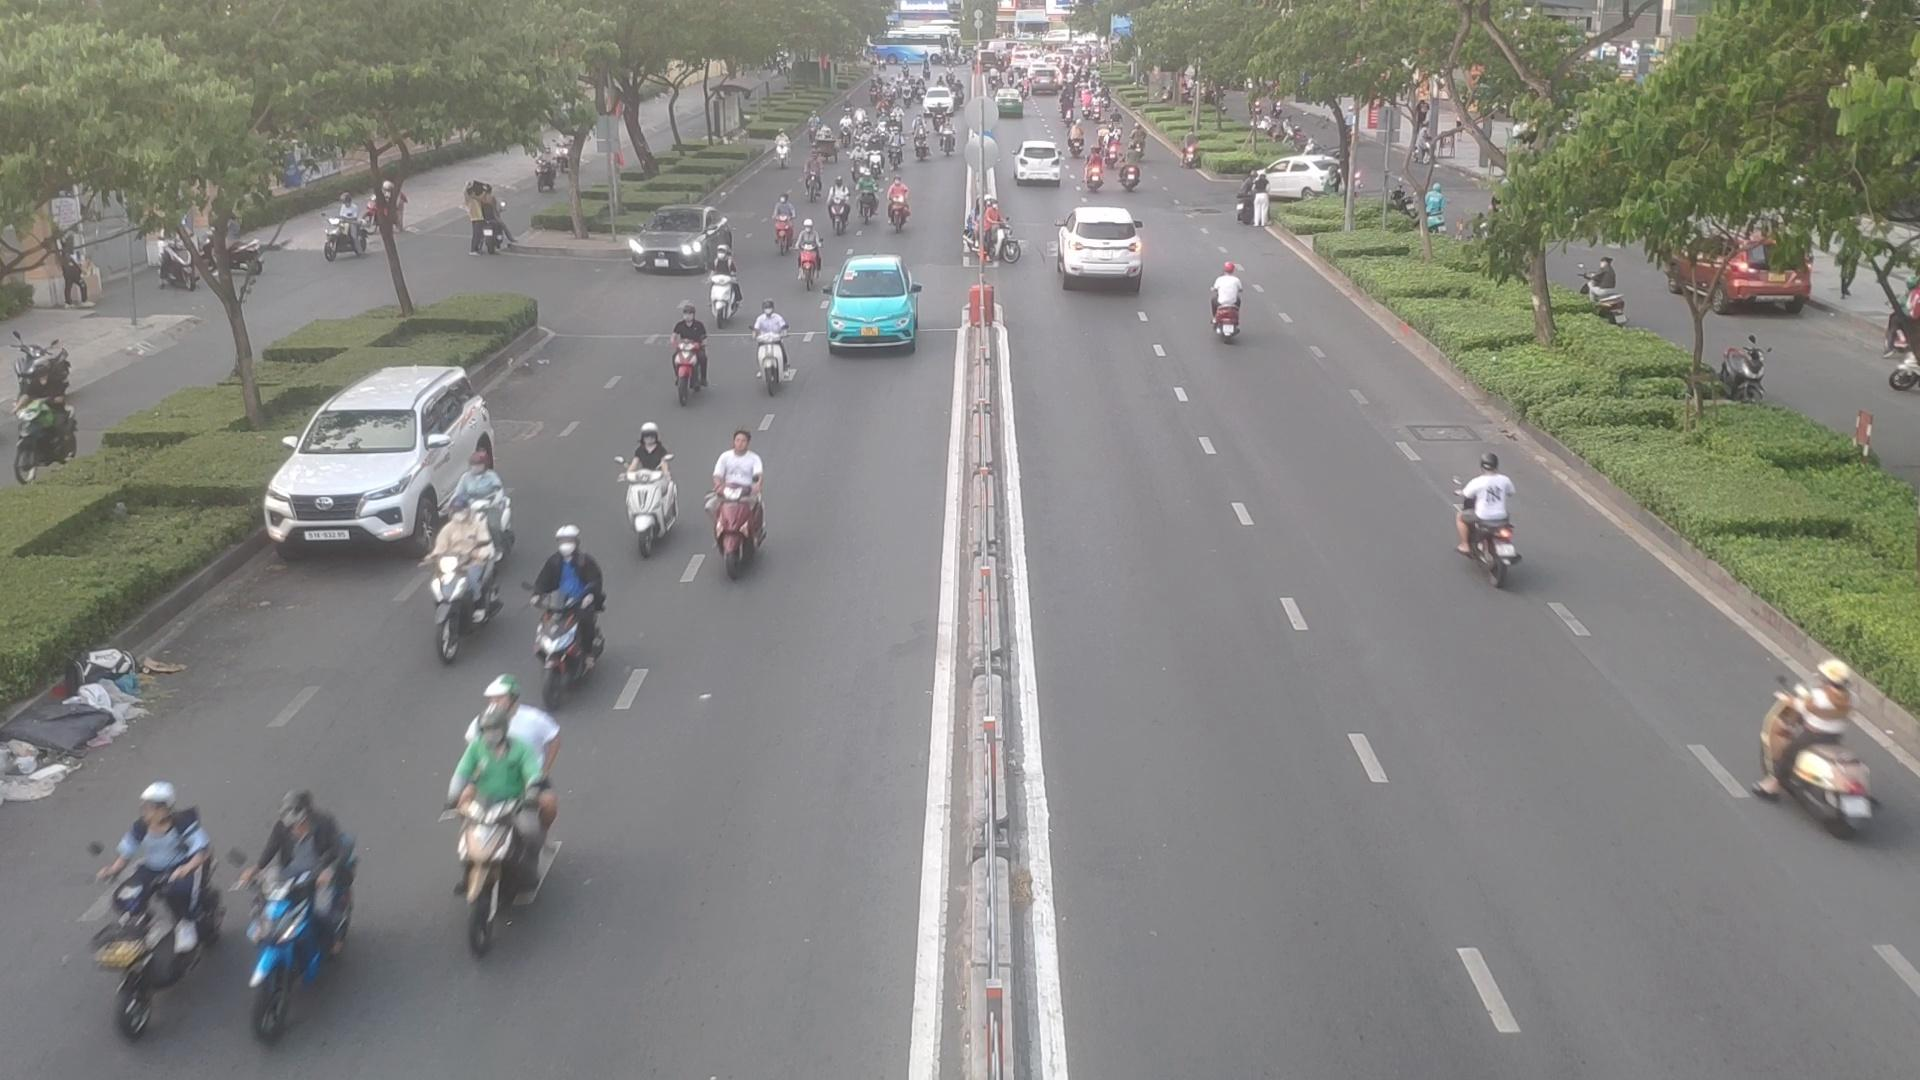car: (266, 367, 506, 560), (824, 255, 927, 357), (1060, 208, 1151, 291), (625, 206, 731, 277), (1014, 138, 1068, 185)
motorbike: (88, 781, 211, 1036), (1746, 642, 1888, 851), (243, 781, 355, 1036), (458, 669, 555, 920), (419, 498, 506, 658), (535, 514, 620, 675), (1444, 448, 1522, 584), (713, 422, 777, 568), (616, 400, 667, 551), (669, 305, 702, 402), (707, 247, 742, 327), (758, 305, 789, 397), (973, 210, 1015, 266), (790, 225, 829, 284), (880, 177, 914, 237), (1217, 258, 1241, 343), (827, 173, 852, 229), (1080, 146, 1106, 198), (855, 171, 880, 223), (771, 193, 793, 252), (1121, 142, 1142, 196), (803, 149, 823, 204), (767, 123, 789, 171), (886, 131, 910, 171), (866, 141, 882, 177), (852, 144, 865, 181)
